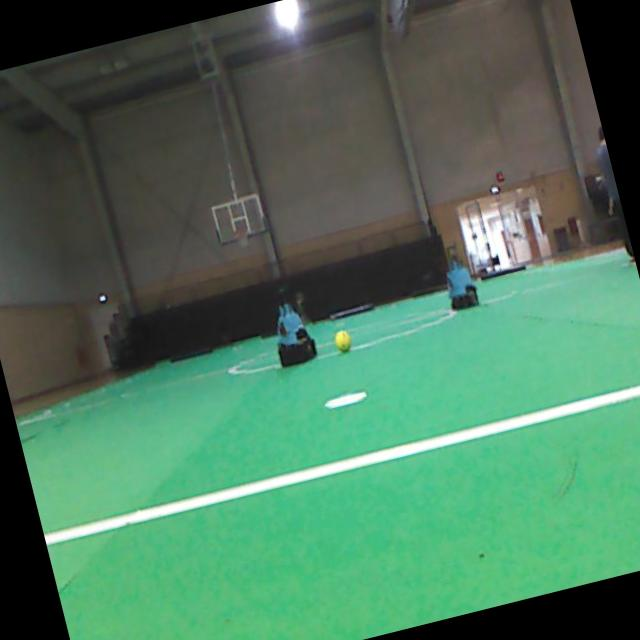ball: (334, 329, 350, 352)
